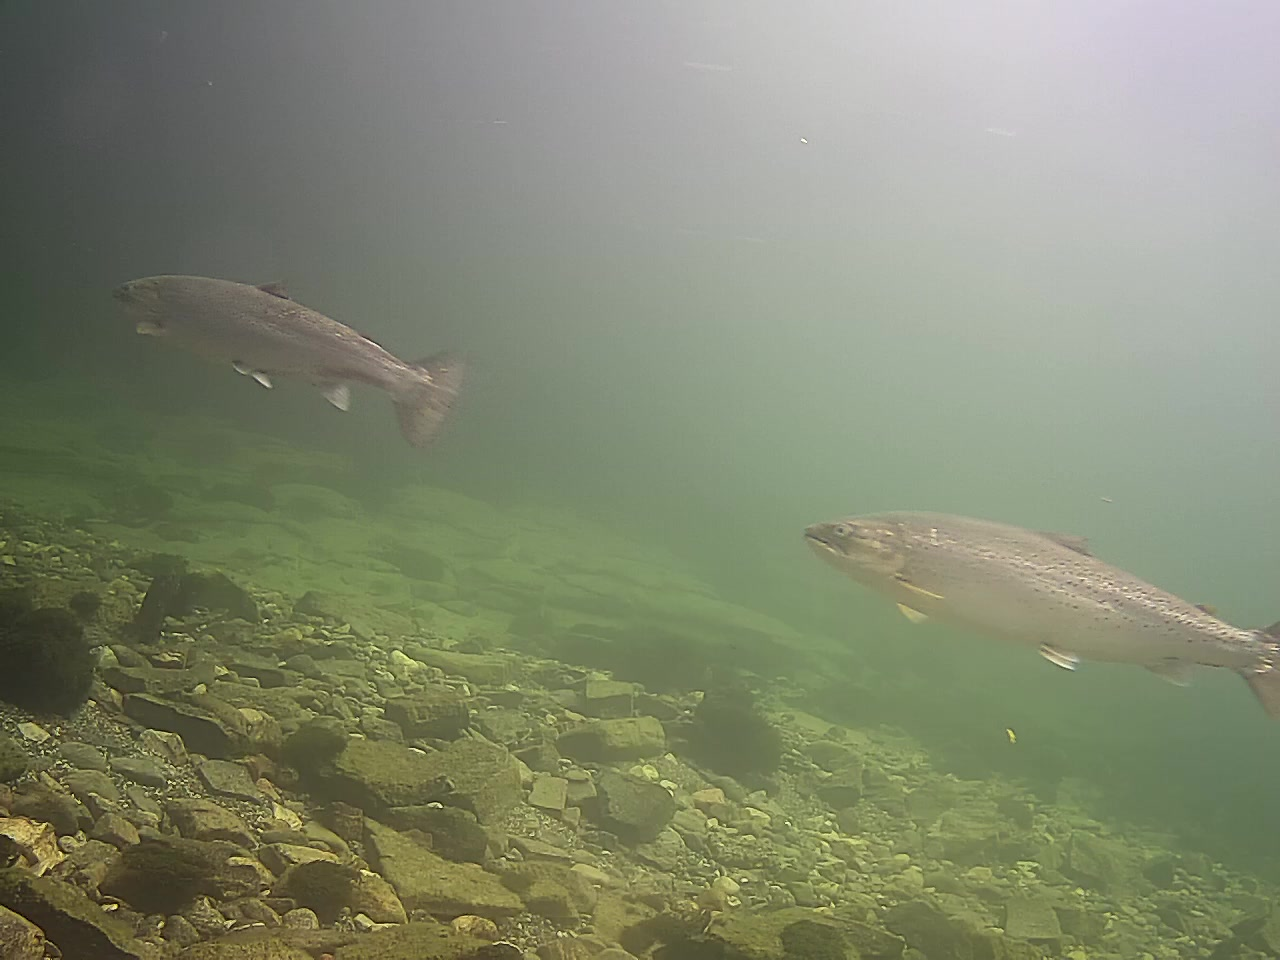salmon: (792, 499, 1280, 724), (109, 262, 474, 455)
